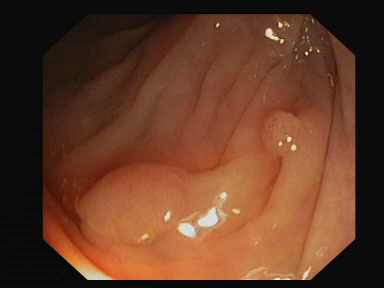polyp: (57, 125, 218, 257), (258, 94, 314, 159)
